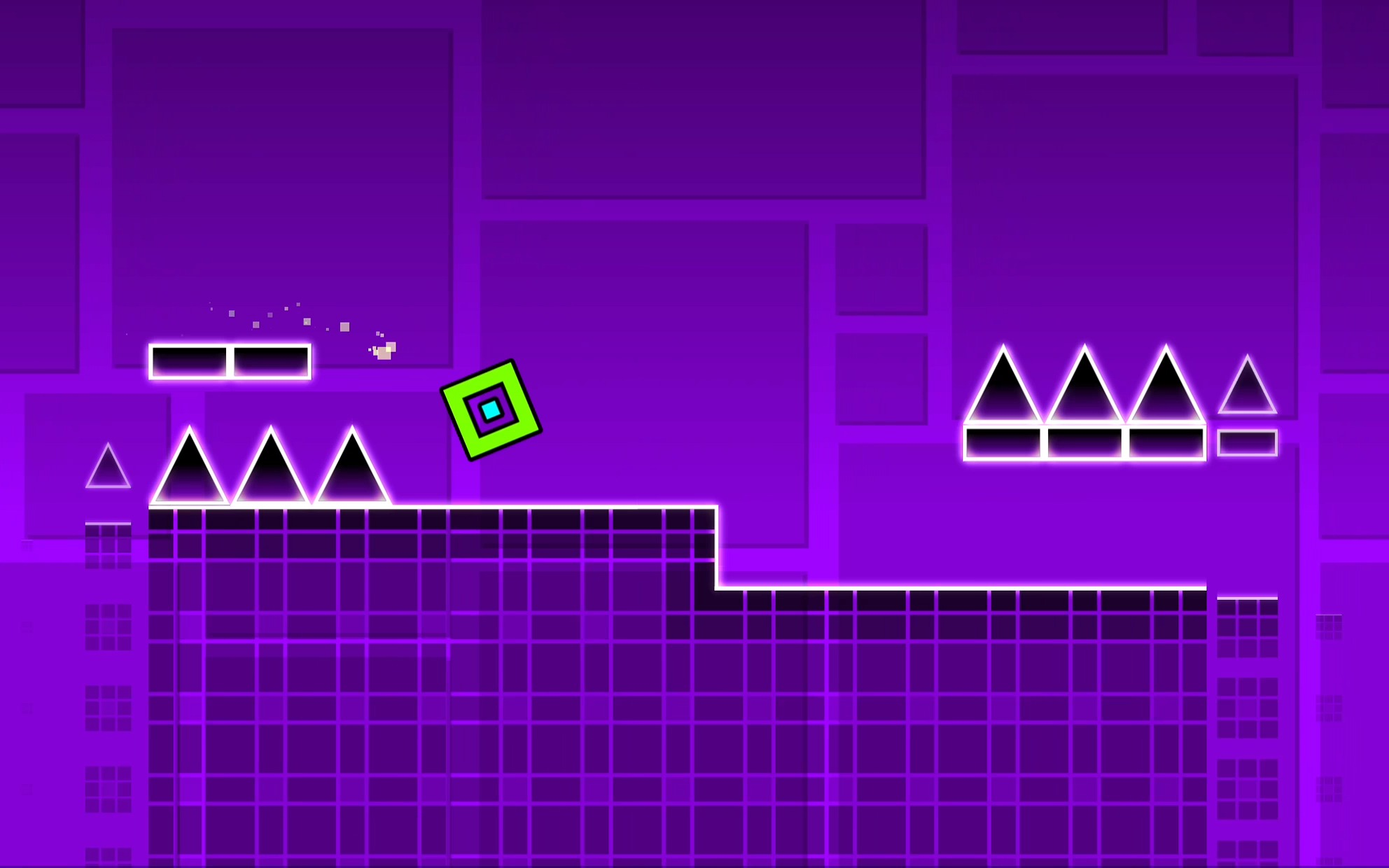Block2: (85, 508, 718, 868), (714, 590, 1282, 868)
Block3: (145, 344, 232, 384), (1122, 426, 1207, 466), (233, 345, 309, 382), (969, 424, 1043, 460), (1043, 427, 1123, 460), (1214, 427, 1283, 456)
Player: (442, 359, 541, 456)
Spike: (964, 344, 1040, 421), (315, 426, 389, 504), (153, 426, 225, 503), (1048, 346, 1121, 421), (235, 426, 307, 502), (1129, 345, 1201, 420), (1217, 355, 1275, 412), (85, 442, 130, 488)
